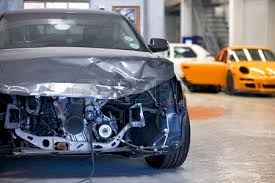Broken-glass: (125, 81, 177, 108)
Dent: (1, 54, 178, 129)
